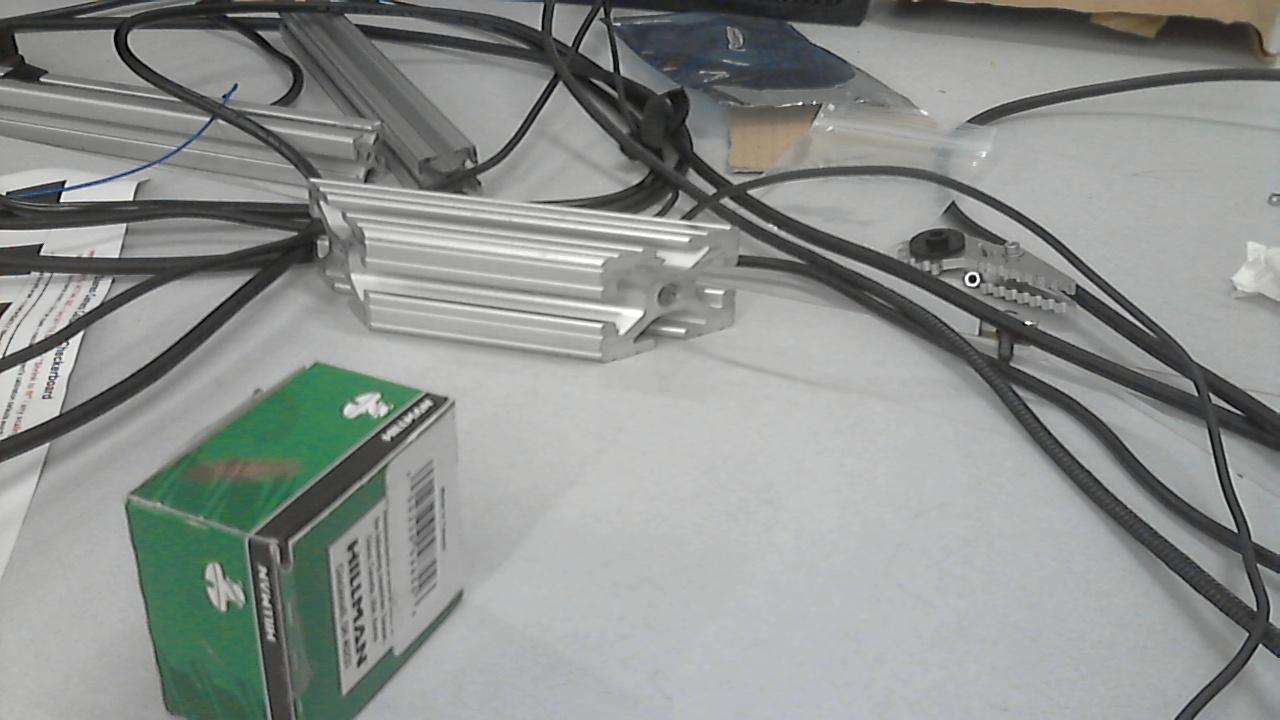Object screw packaging box - Material cardboard - Pdfname VgpKnmoKJfrS: (170, 436, 320, 495)
